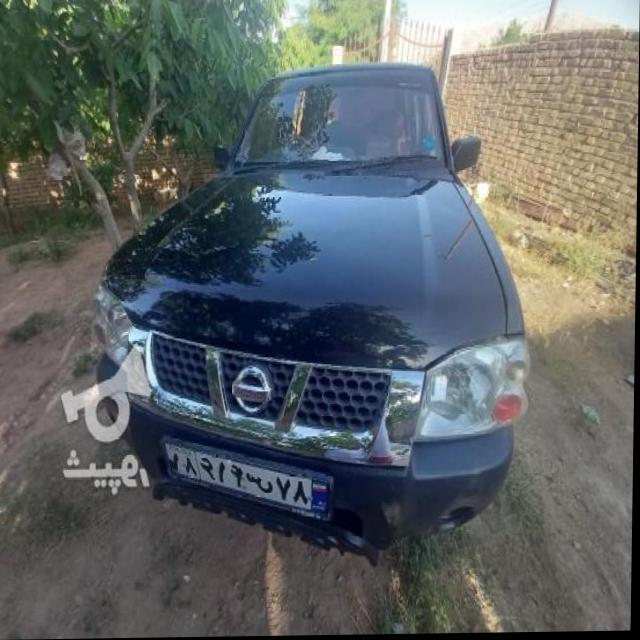licence: (158, 431, 339, 531)
